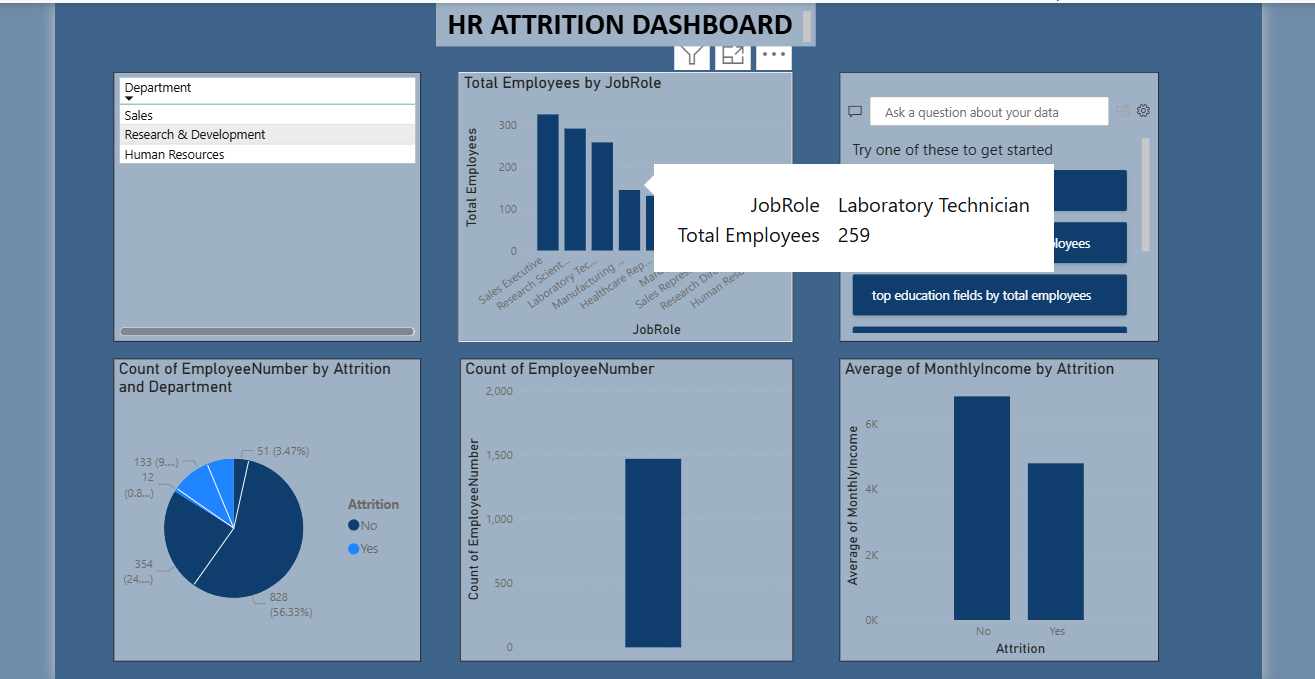

This screenshot's page, from the dashboard's own definition file:
{"tool":"powerbi","page":{"name":"Page 1","canvas":[1280,720],"ordinal":0},"visuals":[{"type":"clusteredColumnChart","fields":{"Y":["CountNonNull(HR-Employee-Attrition-IBM.EmployeeNumber)"]},"box":[429.5,377,353.1,321.3],"z":0},{"type":"lineClusteredColumnComboChart","fields":{"Category":["HR-Employee-Attrition-IBM.Attrition"],"Y":["Avg(HR-Employee-Attrition-IBM.MonthlyIncome)"]},"box":[831.9,377,338.8,321.3],"z":1},{"type":"tableEx","fields":{"Values":["HR-Employee-Attrition-IBM.Department"]},"box":[62,73.2,326.1,286.3],"z":2},{"type":"pieChart","fields":{"Category":["HR-Employee-Attrition-IBM.Attrition"],"Y":["CountNonNull(HR-Employee-Attrition-IBM.EmployeeNumber)"],"Series":["HR-Employee-Attrition-IBM.Department"]},"box":[62,377,326.1,321.3],"z":4},{"type":"lineClusteredColumnComboChart","fields":{"Category":["HR-Employee-Attrition-IBM.JobRole"],"Y":["HR-Employee-Attrition-IBM.Total Employees"]},"box":[427.9,73.2,354.7,286.3],"z":5},{"type":"qnaVisual","box":[831.9,73.2,338.8,286.3],"z":6},{"type":"textbox","box":[404,0,402.4,46.1],"z":7}]}

Visuals, with their boxes in screenshot pixels (x1, y1, x2, y2):
clusteredColumnChart - CountNonNull(HR-Employee-Attrition-IBM.EmployeeNumber): bbox=(461, 357, 788, 655)
lineClusteredColumnComboChart - HR-Employee-Attrition-IBM.Attrition x Avg(HR-Employee-Attrition-IBM.MonthlyIncome): bbox=(834, 357, 1149, 655)
tableEx - HR-Employee-Attrition-IBM.Department: bbox=(119, 75, 422, 341)
pieChart - HR-Employee-Attrition-IBM.Attrition x CountNonNull(HR-Employee-Attrition-IBM.EmployeeNumber): bbox=(119, 357, 422, 655)
lineClusteredColumnComboChart - HR-Employee-Attrition-IBM.JobRole x HR-Employee-Attrition-IBM.Total Employees: bbox=(459, 75, 788, 341)
qnaVisual: bbox=(834, 75, 1149, 341)
textbox: bbox=(437, 7, 811, 50)
